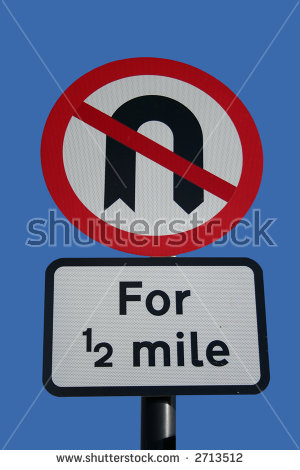No_u_turn: (39, 55, 265, 257)
